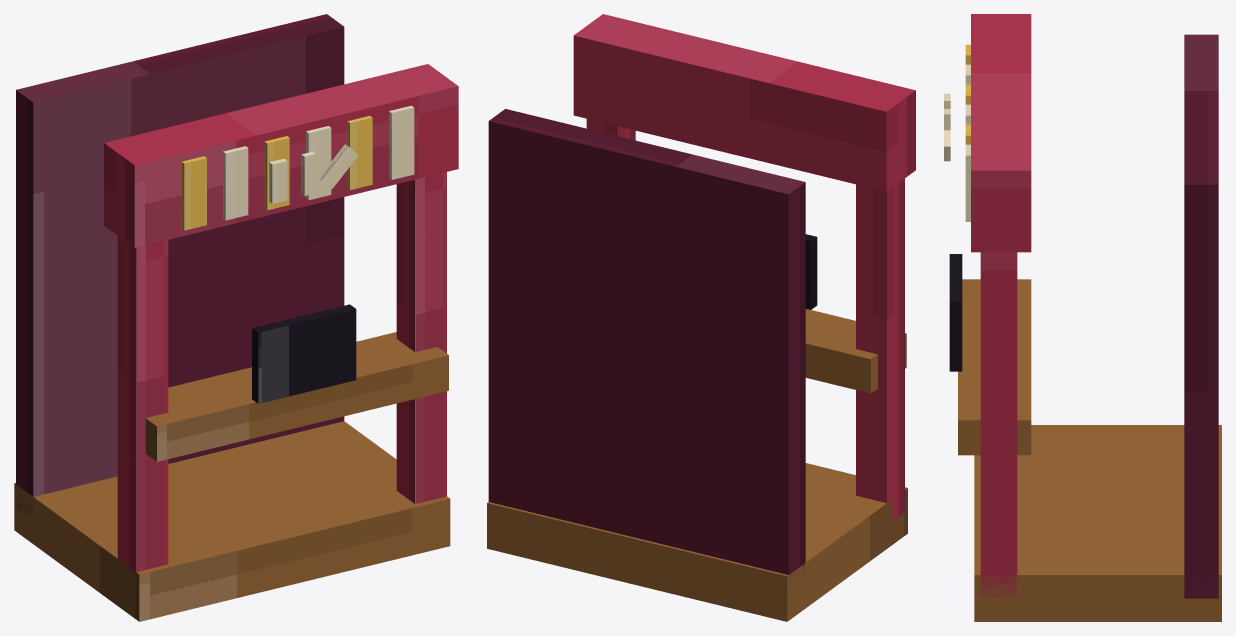
File: carnival_ticket_booth.glb
The picture shows the model from 3 angles, left to right: view 1: azimuth 30°, elevation 25°; view 2: azimuth 150°, elevation 25°; view 3: azimuth 270°, elevation 25°; orthographic projection. The views are drawn at different scales.
Visible parts, largest first — view 1: BoothBack, BoothBase, Header, Counter, FrontPost, FrontPost.001, TicketSlot, HeaderStripe_0, HeaderStripe_1, HeaderStripe_5, HeaderStripe_4, HeaderStripe_3 (+4 smaller); view 2: BoothBack, Header, BoothBase, FrontPost, Counter, TicketSlot; view 3: BoothBase, BoothBack, Header, FrontPost.001, Counter, TicketSlot, HeaderStripe_5.
Boxes of the visible parts, x1,y1,x2,y2 form: BoothBack: (16, 14, 344, 518); BoothBase: (14, 421, 450, 621); Header: (104, 64, 458, 247); Counter: (145, 332, 448, 461); FrontPost: (117, 236, 168, 572); FrontPost.001: (396, 172, 446, 503); TicketSlot: (252, 304, 356, 403); HeaderStripe_0: (181, 156, 206, 230); HeaderStripe_1: (223, 146, 248, 220); HeaderStripe_5: (389, 105, 414, 179); HeaderStripe_4: (347, 116, 372, 189); HeaderStripe_3: (306, 126, 331, 200); BoothBack: (488, 109, 805, 581); Header: (573, 14, 915, 191); BoothBase: (487, 463, 907, 621); FrontPost: (856, 178, 904, 520); Counter: (805, 309, 906, 393); TicketSlot: (805, 234, 817, 309); BoothBase: (974, 425, 1221, 621); BoothBack: (1184, 34, 1218, 598); Header: (971, 14, 1031, 252); FrontPost.001: (980, 252, 1017, 597); Counter: (958, 279, 1031, 455); TicketSlot: (949, 254, 962, 371); HeaderStripe_5: (965, 144, 970, 221).
Size of the model in its own units: 1.72 by 2.33 by 1.29.
1 material, 1 textured.
